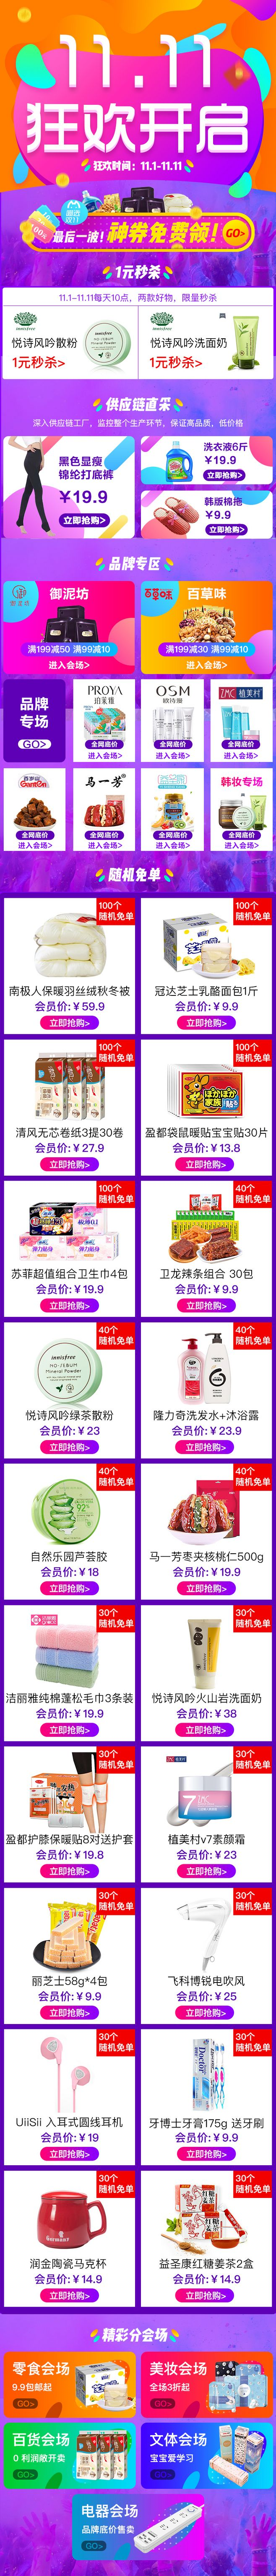floors: (0, 862, 276, 2311), (0, 554, 276, 853), (0, 2323, 276, 2563), (0, 393, 276, 539), (0, 261, 276, 381)
toutu: (0, 0, 276, 258)
